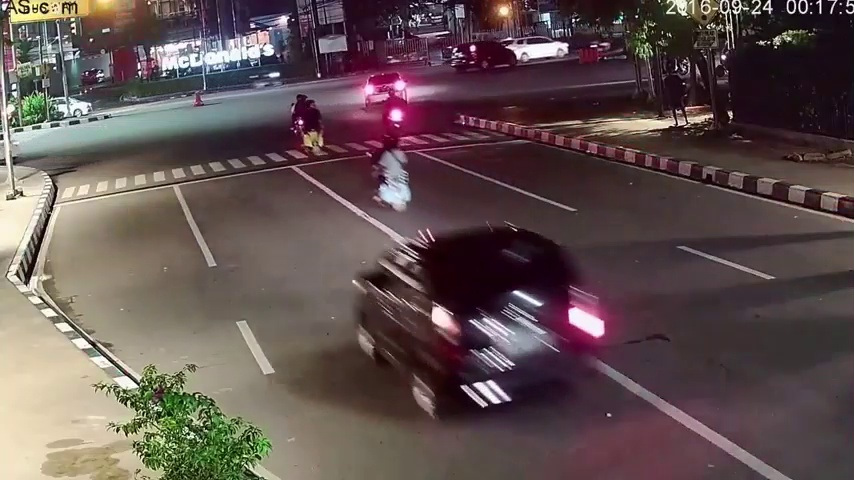car: (353, 227, 592, 414), (362, 70, 411, 112), (451, 43, 517, 73), (506, 36, 569, 63)
motorbike: (371, 133, 412, 212), (383, 89, 409, 140), (302, 101, 326, 154), (292, 95, 310, 136)
